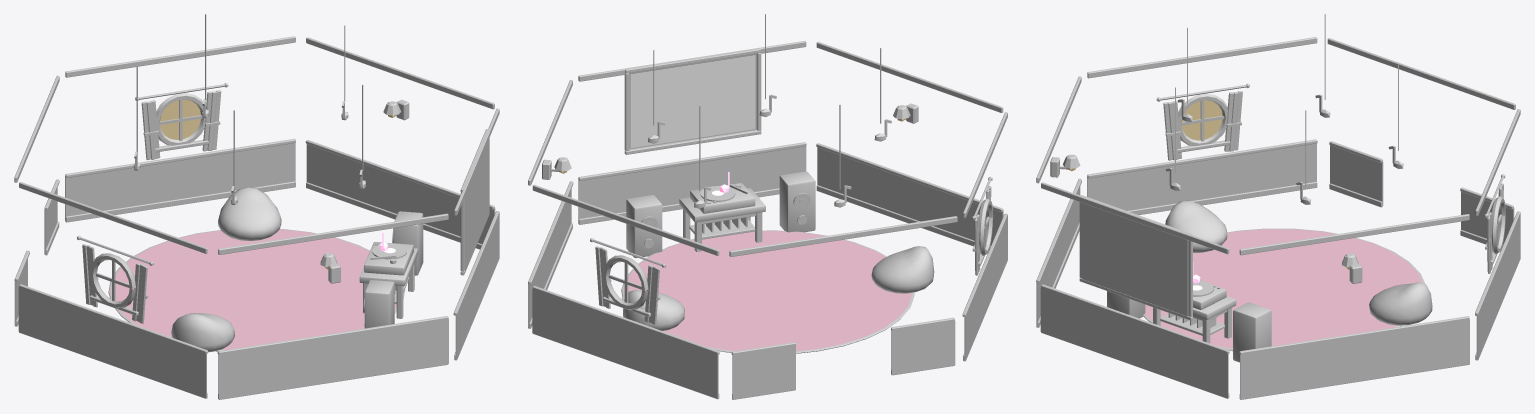
Rendered from zon_room_song.glb.
3 views of the same model, side by side, from view 1: azimuth 30°, elevation 25°; view 2: azimuth 150°, elevation 25°; view 3: azimuth 270°, elevation 25° (orthographic).
Parts seen in each view (by area): view 1: SM_zon_room_song_kit_interior_x0_z0, SM_zon_room_song_room_rug_x0_z0, ANIM_fur_speaker_song_box__1, SM_zon_room_song_glow_vc_x0_z0, ANIM_fur_speaker_song_box__0; view 2: SM_zon_room_song_kit_interior_x0_z0, SM_zon_room_song_room_rug_x0_z0, SCREEN_fur_screen_song__0, ANIM_fur_speaker_song_box__1, ANIM_fur_speaker_song_box__0; view 3: SM_zon_room_song_kit_interior_x0_z0, SM_zon_room_song_room_rug_x0_z0, ANIM_fur_speaker_song_box__0, SM_zon_room_song_glow_vc_x0_z0, ANIM_fur_speaker_song_box__1.
Part boxes in pixels (x1,y1,x2,y2): SM_zon_room_song_kit_interior_x0_z0: [14, 14, 499, 399]; SM_zon_room_song_room_rug_x0_z0: [111, 229, 396, 349]; ANIM_fur_speaker_song_box__1: [363, 280, 394, 328]; SM_zon_room_song_glow_vc_x0_z0: [160, 99, 396, 269]; ANIM_fur_speaker_song_box__0: [392, 211, 423, 275]; SM_zon_room_song_kit_interior_x0_z0: [528, 14, 1007, 399]; SM_zon_room_song_room_rug_x0_z0: [624, 231, 911, 351]; SCREEN_fur_screen_song__0: [631, 55, 755, 147]; ANIM_fur_speaker_song_box__1: [779, 171, 815, 232]; ANIM_fur_speaker_song_box__0: [626, 195, 662, 258]; SM_zon_room_song_kit_interior_x0_z0: [1036, 14, 1520, 399]; SM_zon_room_song_room_rug_x0_z0: [1145, 229, 1422, 348]; ANIM_fur_speaker_song_box__0: [1233, 302, 1271, 362]; SM_zon_room_song_glow_vc_x0_z0: [1067, 100, 1349, 269]; ANIM_fur_speaker_song_box__1: [1107, 291, 1145, 318].
Size of the model in its own units: 9.83 by 4.99 by 9.42.
